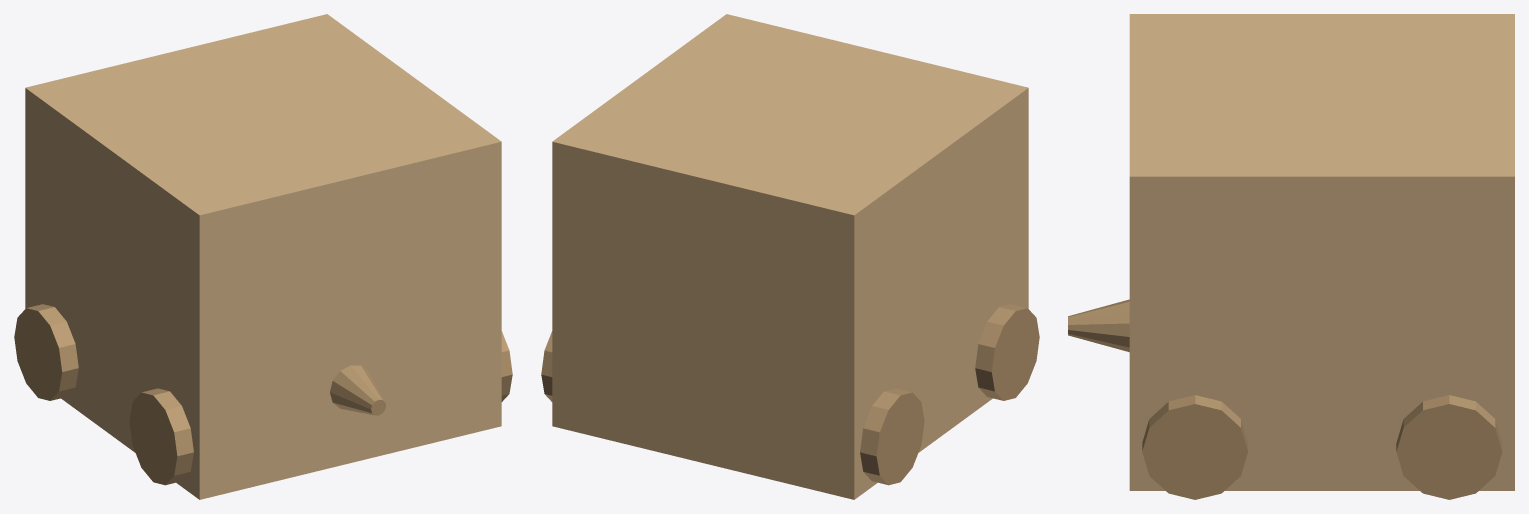
The model's file is SM_Fort_Tier0_01_111111.glb.
The picture shows the model from 3 angles, left to right: view 1: azimuth 30°, elevation 25°; view 2: azimuth 150°, elevation 25°; view 3: azimuth 270°, elevation 25°; orthographic projection. The views are drawn at different scales.
Parts seen in each view (by area): view 1: SM_Fort_Wall_L1, SM_Fort_Chassis, SM_Fort_Wheel_01, SM_Fort_Wheel_03, SM_Fort_Ram, SM_Fort_Wheel_02; view 2: SM_Fort_Wall_L1, SM_Fort_Chassis, SM_Fort_Wheel_03, SM_Fort_Wheel_01, SM_Fort_Wheel_04; view 3: SM_Fort_Wall_L1, SM_Fort_Chassis, SM_Fort_Wheel_04, SM_Fort_Wheel_02, SM_Fort_Ram.
Part boxes in pixels (box(x1,y1,x2,y2)): SM_Fort_Wall_L1: box(25, 14, 501, 452); SM_Fort_Chassis: box(61, 364, 501, 499); SM_Fort_Wheel_01: box(129, 388, 193, 485); SM_Fort_Wheel_03: box(14, 304, 78, 400); SM_Fort_Ram: box(330, 365, 385, 415); SM_Fort_Wheel_02: box(501, 331, 512, 401); SM_Fort_Wall_L1: box(552, 14, 1028, 452); SM_Fort_Chassis: box(552, 364, 992, 499); SM_Fort_Wheel_03: box(860, 388, 924, 485); SM_Fort_Wheel_01: box(975, 304, 1039, 400); SM_Fort_Wheel_04: box(541, 331, 552, 401); SM_Fort_Wall_L1: box(1129, 14, 1514, 438); SM_Fort_Chassis: box(1129, 438, 1514, 490); SM_Fort_Wheel_04: box(1396, 395, 1502, 499); SM_Fort_Wheel_02: box(1142, 395, 1247, 499); SM_Fort_Ram: box(1068, 299, 1129, 352).
Bounding box in the file's own units: 2.22 × 1.8 × 2.32.
